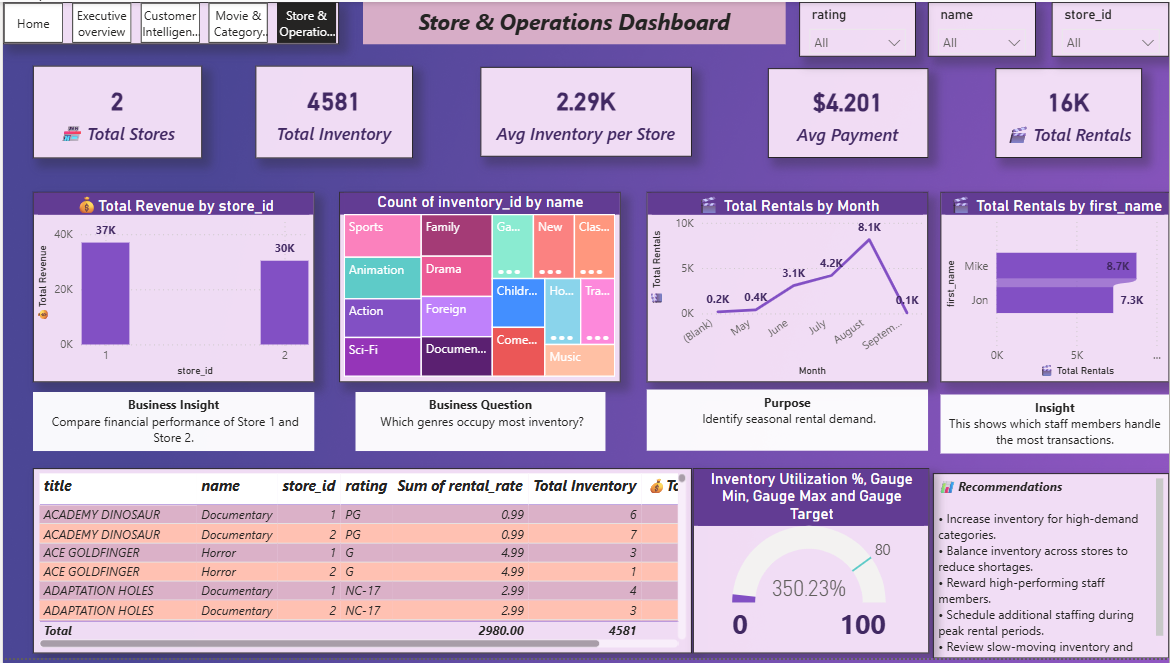

What the dashboard file says about the page in this screenshot:
{"tool":"powerbi","page":{"name":"Store & Operations Dashboard","canvas":[1280,720],"ordinal":4},"visuals":[{"type":"textbox","box":[395.2,0,463.8,46.7],"z":0},{"type":"card","fields":{"Values":["Table.🏪 Total Stores"]},"box":[32.9,70,185.2,101.5],"z":1000},{"type":"card","fields":{"Values":["Table.Total Inventory"]},"box":[277.2,70,172.9,101.5],"z":2000},{"type":"card","fields":{"Values":["Table.Avg Inventory per Store"]},"box":[524.2,71.4,231.9,98.8],"z":3000},{"type":"card","fields":{"Values":["Table.Avg Payment"]},"box":[839.8,72.7,175.6,98.8],"z":4000},{"type":"card","fields":{"Values":["Table.🎬 Total Rentals"]},"box":[1089.5,72.7,160.5,98.8],"z":5000},{"type":"clusteredColumnChart","fields":{"Category":["store.store_id"],"Y":["Table.💰Total Revenue"]},"box":[32.9,208.6,308.7,208.6],"z":6000},{"type":"textbox","box":[32.9,428.1,308.7,64.5],"z":7000},{"type":"treemap","fields":{"Group":["category.name"],"Values":["CountNonNull(inventory.inventory_id)"]},"box":[369.1,208.6,308.7,208.6],"z":8000},{"type":"textbox","box":[387,428.1,274.4,64.5],"z":9000},{"type":"lineChart","fields":{"Category":["rentat.return_date.Variation.Date Hierarchy.Month"],"Y":["Table.🎬 Total Rentals"]},"box":[706.7,208.6,308.7,208.6],"z":10000},{"type":"textbox","box":[706.7,425.4,308.7,67.2],"z":11000},{"type":"barChart","fields":{"Category":["staff.first_name"],"Y":["Table.🎬 Total Rentals"]},"box":[1029.2,208.6,251.1,208.6],"z":12000},{"type":"textbox","box":[1029.2,430.9,251.1,64.5],"z":13000},{"type":"tableEx","fields":{"Values":["film_text.title","category.name","store.store_id","film.rating","Sum(film.rental_rate)","Table.Total Inventory","Table.💰Total Revenue"]},"box":[32.9,511.8,723.2,203.1],"z":14000},{"type":"textbox","box":[1020.9,517.3,259.3,203.1],"z":15000},{"type":"gauge","fields":{"Y":["Table.Inventory Utilization %"],"MinValue":["Table.Gauge Min"],"MaxValue":["Table.Gauge Max"],"TargetValue":["Table.Gauge Target"]},"box":[757.5,511.8,259.3,203.1],"z":16000},{"type":"slicer","fields":{"Values":["store.store_id"]},"box":[1151.3,0,129,60.4],"z":17000},{"type":"slicer","fields":{"Values":["category.name"]},"box":[1015.4,0,118,60.4],"z":18000},{"type":"slicer","fields":{"Values":["film.rating"]},"box":[874.1,0,127.6,60.4],"z":19000},{"type":"pageNavigator","box":[0,0,369.1,46.7],"z":20000}]}

Visuals, with their boxes in screenshot pixels (x1, y1, x2, y2), scaled from the page's 1280x720 canvas onto the 1170x663 screenshot:
textbox: region(361, 0, 785, 43)
card - Table.🏪 Total Stores: region(30, 64, 199, 158)
card - Table.Total Inventory: region(253, 64, 411, 158)
card - Table.Avg Inventory per Store: region(479, 66, 691, 157)
card - Table.Avg Payment: region(768, 67, 928, 158)
card - Table.🎬 Total Rentals: region(996, 67, 1143, 158)
clusteredColumnChart - store.store_id x Table.💰Total Revenue: region(30, 192, 312, 384)
textbox: region(30, 394, 312, 454)
treemap - category.name x CountNonNull(inventory.inventory_id): region(337, 192, 620, 384)
textbox: region(354, 394, 605, 454)
lineChart - rentat.return_date.Variation.Date Hierarchy.Month x Table.🎬 Total Rentals: region(646, 192, 928, 384)
textbox: region(646, 392, 928, 454)
barChart - staff.first_name x Table.🎬 Total Rentals: region(941, 192, 1169, 384)
textbox: region(941, 397, 1169, 456)
tableEx - film_text.title x category.name: region(30, 471, 691, 658)
textbox: region(933, 476, 1169, 662)
gauge - Table.Inventory Utilization % x Table.Gauge Min: region(692, 471, 929, 658)
slicer - store.store_id: region(1052, 0, 1169, 56)
slicer - category.name: region(928, 0, 1036, 56)
slicer - film.rating: region(799, 0, 916, 56)
pageNavigator: region(0, 0, 337, 43)
